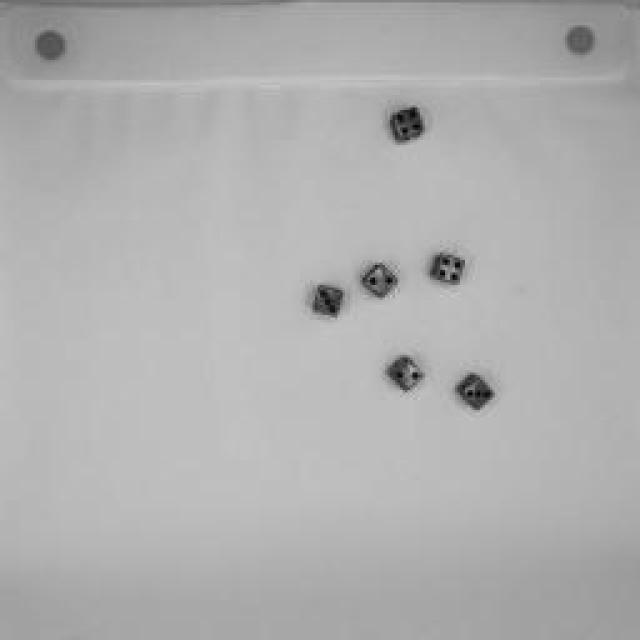dice_2: (385, 348, 430, 398), (361, 258, 404, 302)
dice_3: (455, 368, 500, 418), (308, 278, 352, 322)
dice_4: (425, 245, 470, 290), (385, 105, 425, 145)
